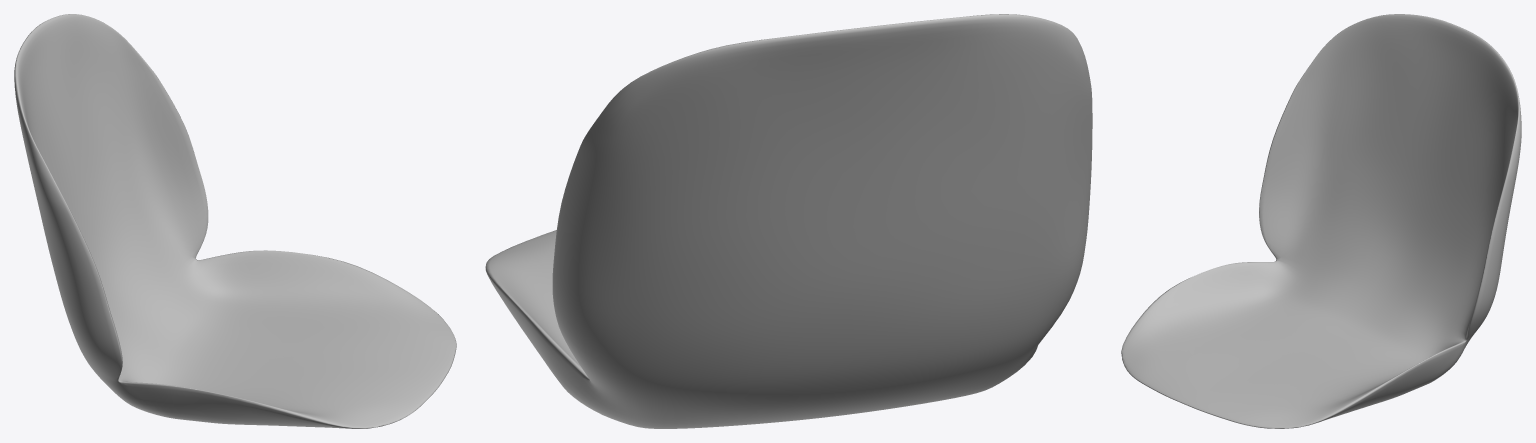
The model's file is tablechair_0203_seat.glb.
The picture shows the model from 3 angles, left to right: view 1: azimuth 30°, elevation 25°; view 2: azimuth 150°, elevation 25°; view 3: azimuth 270°, elevation 25°; orthographic projection. The views are drawn at different scales.
Parts seen in each view (by area): view 1: tablechair_0203_seat; view 2: tablechair_0203_seat; view 3: tablechair_0203_seat.
Boxes of the visible parts, x1=… form: tablechair_0203_seat: x1=14, y1=14, x2=456, y2=428; tablechair_0203_seat: x1=485, y1=14, x2=1092, y2=428; tablechair_0203_seat: x1=1121, y1=14, x2=1521, y2=428.
Bounding box in the file's own units: 0.552 × 0.4182 × 0.552.
Materials: 1 (1 with a texture image).
